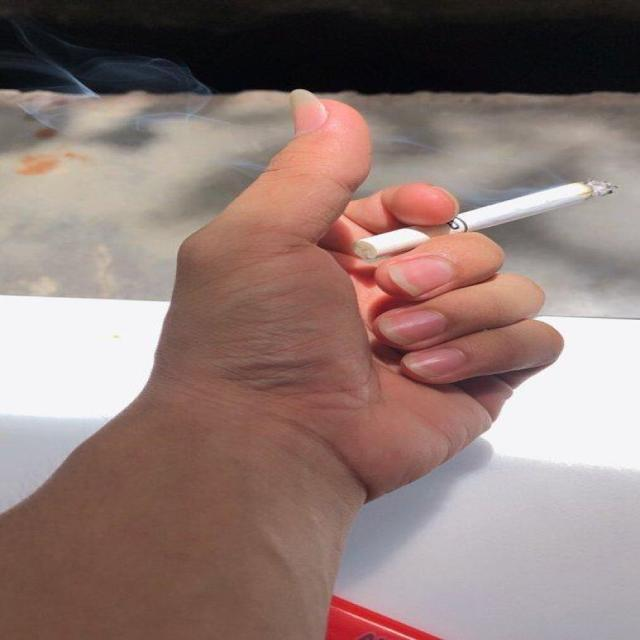rokok: (349, 176, 623, 262)
